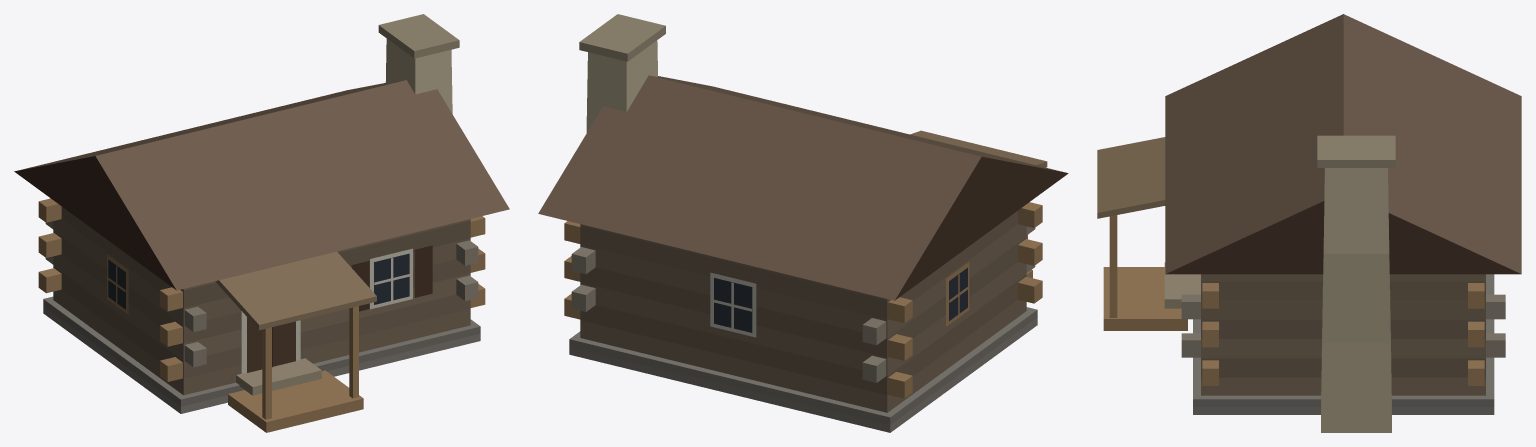
Rendered from cabin.glb.
The picture shows the model from 3 angles, left to right: view 1: azimuth 30°, elevation 25°; view 2: azimuth 150°, elevation 25°; view 3: azimuth 270°, elevation 25°; orthographic projection. The views are drawn at different scales.
Visible parts, largest first — view 1: cabin; view 2: cabin; view 3: cabin.
Part boxes in pixels (left/top/right/bottom): cabin: left=14, top=14, right=509, bottom=432; cabin: left=538, top=14, right=1068, bottom=432; cabin: left=1097, top=14, right=1521, bottom=432.
Bounding box in the file's own units: 6.87 × 4.67 × 6.55.
